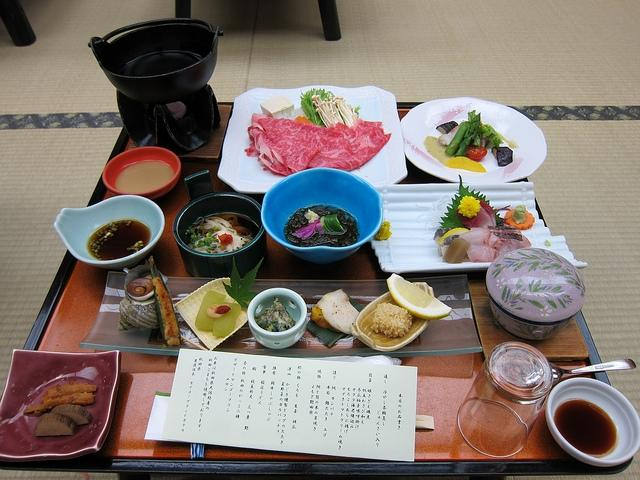lemon: (387, 273, 452, 320), (444, 156, 487, 172), (438, 228, 469, 246)
tomato: (467, 146, 487, 160), (218, 232, 233, 246)
